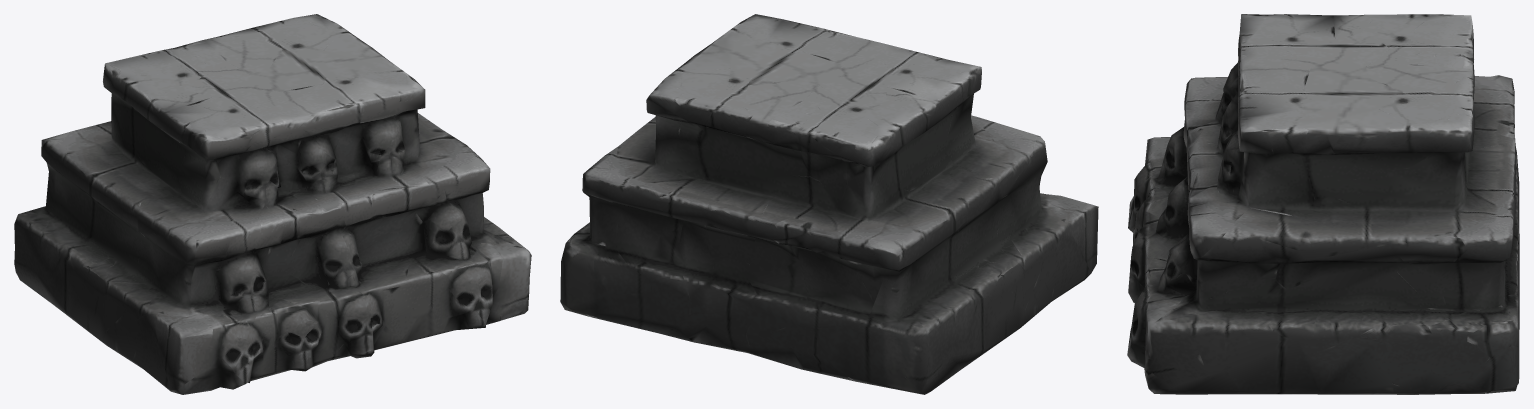
File: throne_dais.glb
3 renders of one model, left to right at view 1: azimuth 30°, elevation 25°; view 2: azimuth 150°, elevation 25°; view 3: azimuth 270°, elevation 25°, orthographic. The views are drawn at different scales.
Size of the model in its own units: 2 by 1.15 by 1.74.
1 material, 1 textured.
